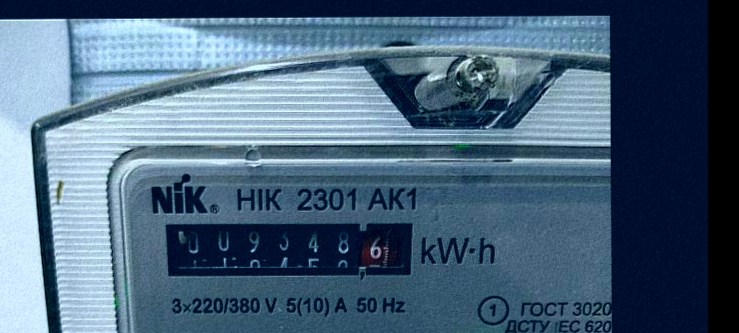0: (185, 230, 201, 256), (216, 227, 230, 253)
3: (277, 227, 291, 252)
4: (304, 225, 322, 255)
6: (367, 233, 384, 262)
8: (336, 228, 351, 256)
9: (247, 229, 261, 257)
screen: (148, 208, 426, 288)
